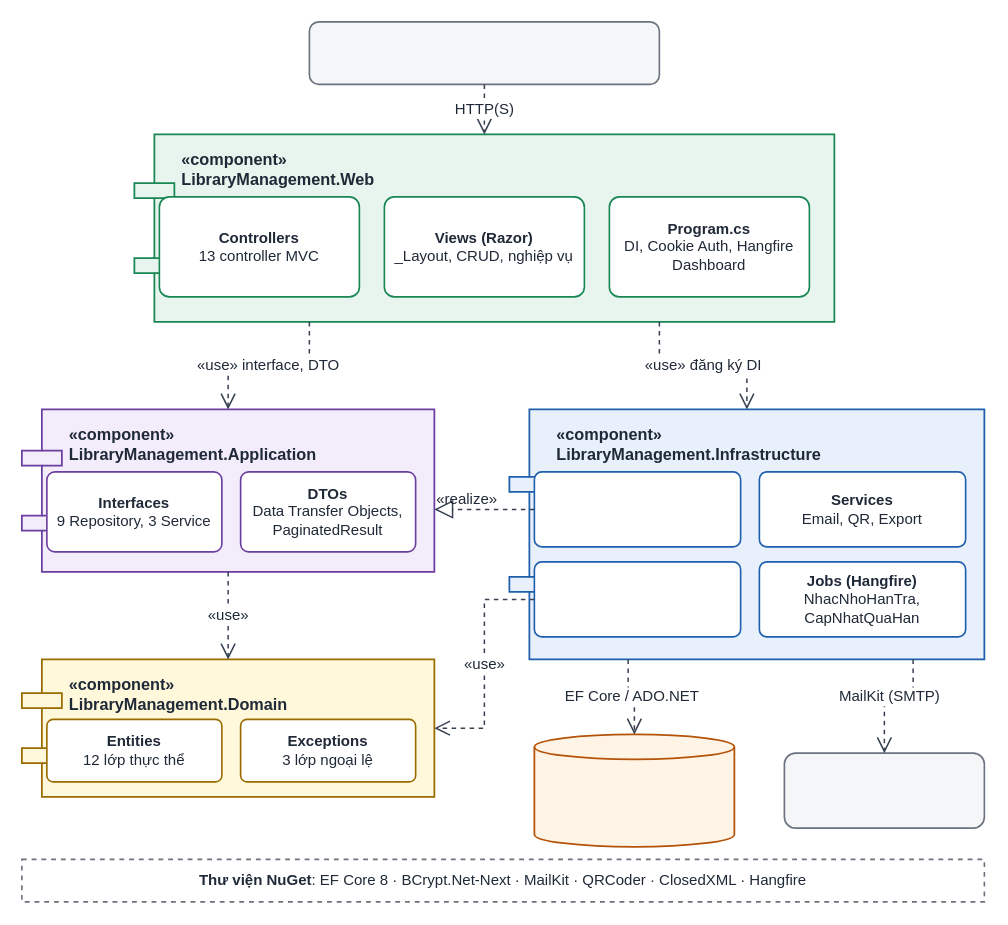
Image size: 1008x925. Some labels were removed from this diagram. The centre of each missing label's shape, as x and y in pixels:
Máy chủ SMTP smtp.gmail.com:587: the point at 884,790
Persistence AppDbContext: the point at 637,598
Repositories EF Core + ADO.NET (SP): the point at 637,508
SQL Server CSDL QuanLyThuVien (bảng, SP, view, Hangfire): the point at 634,790
Trình duyệt web Razor HTML + Bootstrap 5 (CDN): the point at 484,52
